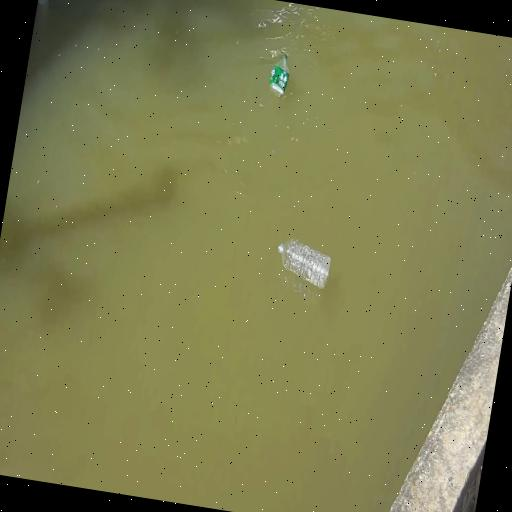plastic: (272, 236, 335, 290), (266, 50, 294, 98)
